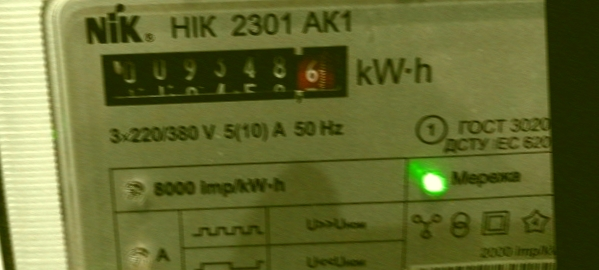0: (120, 60, 137, 87), (151, 56, 166, 82)
3: (212, 54, 227, 80)
4: (239, 51, 258, 82)
6: (302, 57, 320, 86)
8: (271, 53, 287, 82)
9: (182, 58, 197, 85)
screen: (82, 31, 363, 120)
